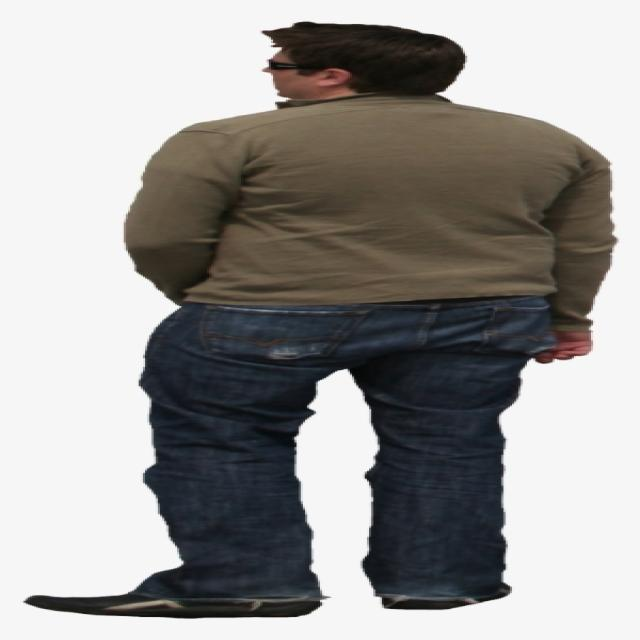adult: (21, 19, 614, 622)
